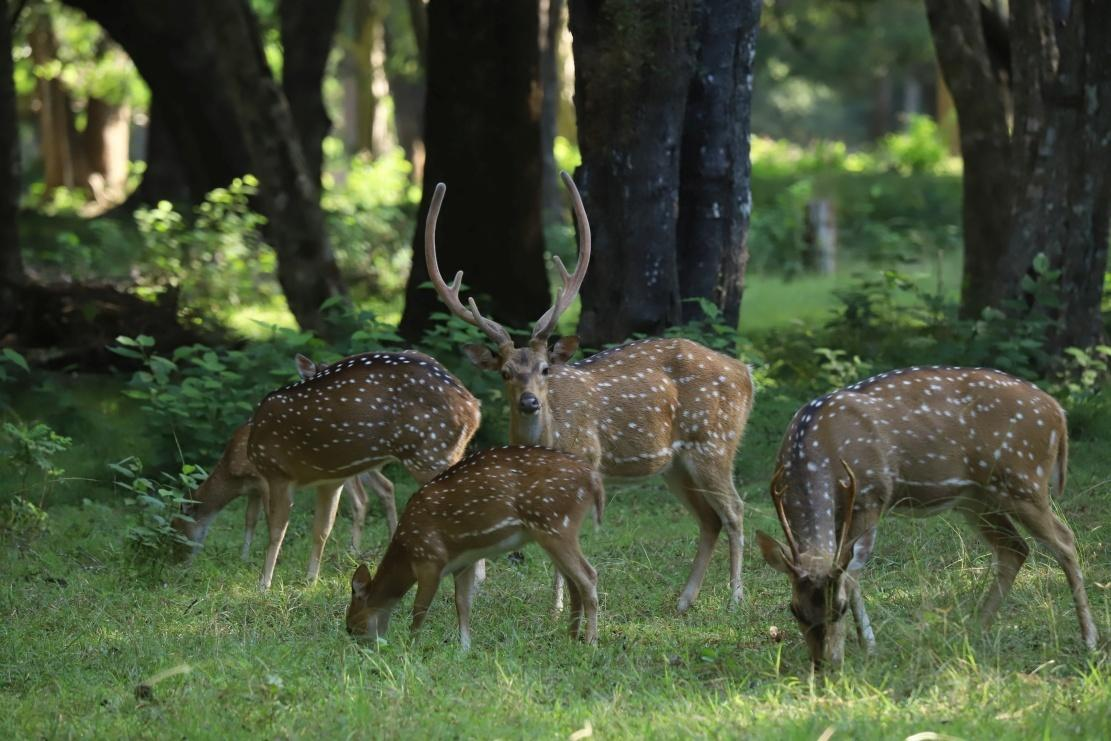Deer: (425, 172, 754, 612), (757, 367, 1097, 668), (346, 445, 603, 648), (255, 351, 479, 483), (173, 422, 272, 554), (308, 486, 339, 577)
